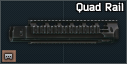SA-58 quad rail full length handguard: (0, 0, 127, 64)
